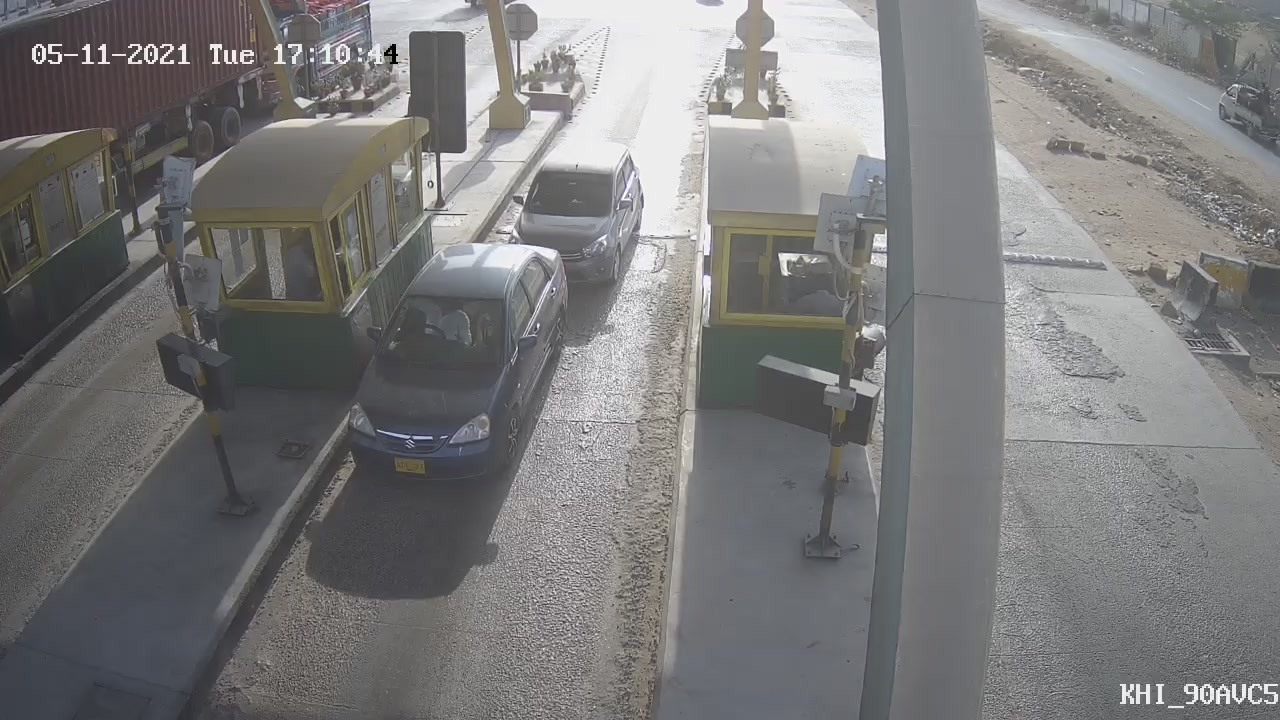F1: (329, 226, 585, 503), (490, 133, 661, 313)
